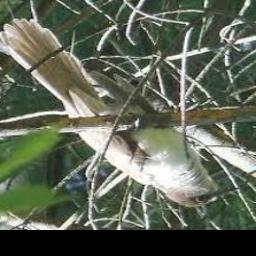Cuckoo: (0, 19, 241, 207)
